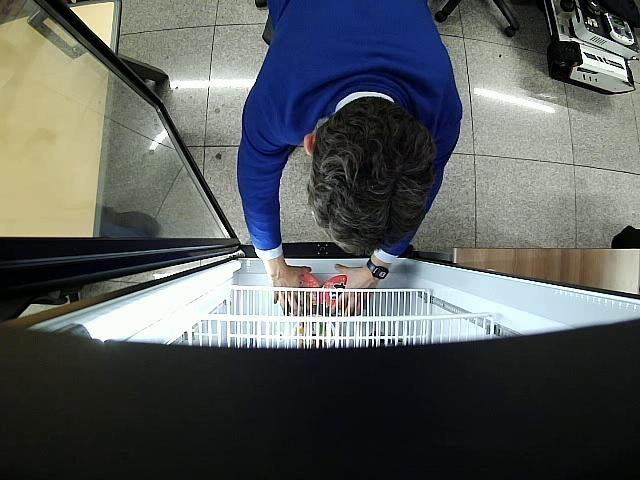01_ShinRamen_L: (284, 274, 318, 316), (320, 275, 354, 316)
